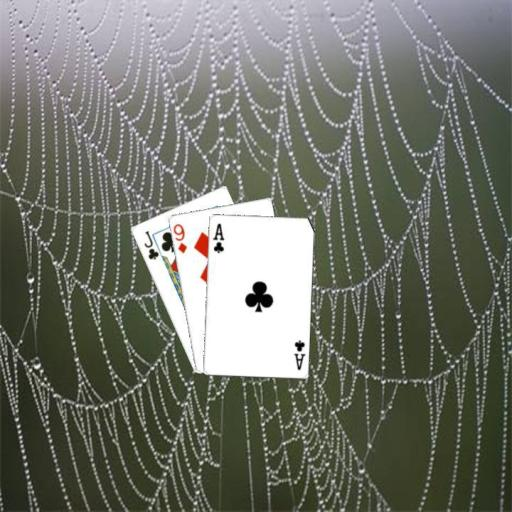9D: (170, 221, 188, 255)
AC: (209, 220, 225, 254), (291, 337, 306, 372)
JC: (140, 228, 160, 261)
